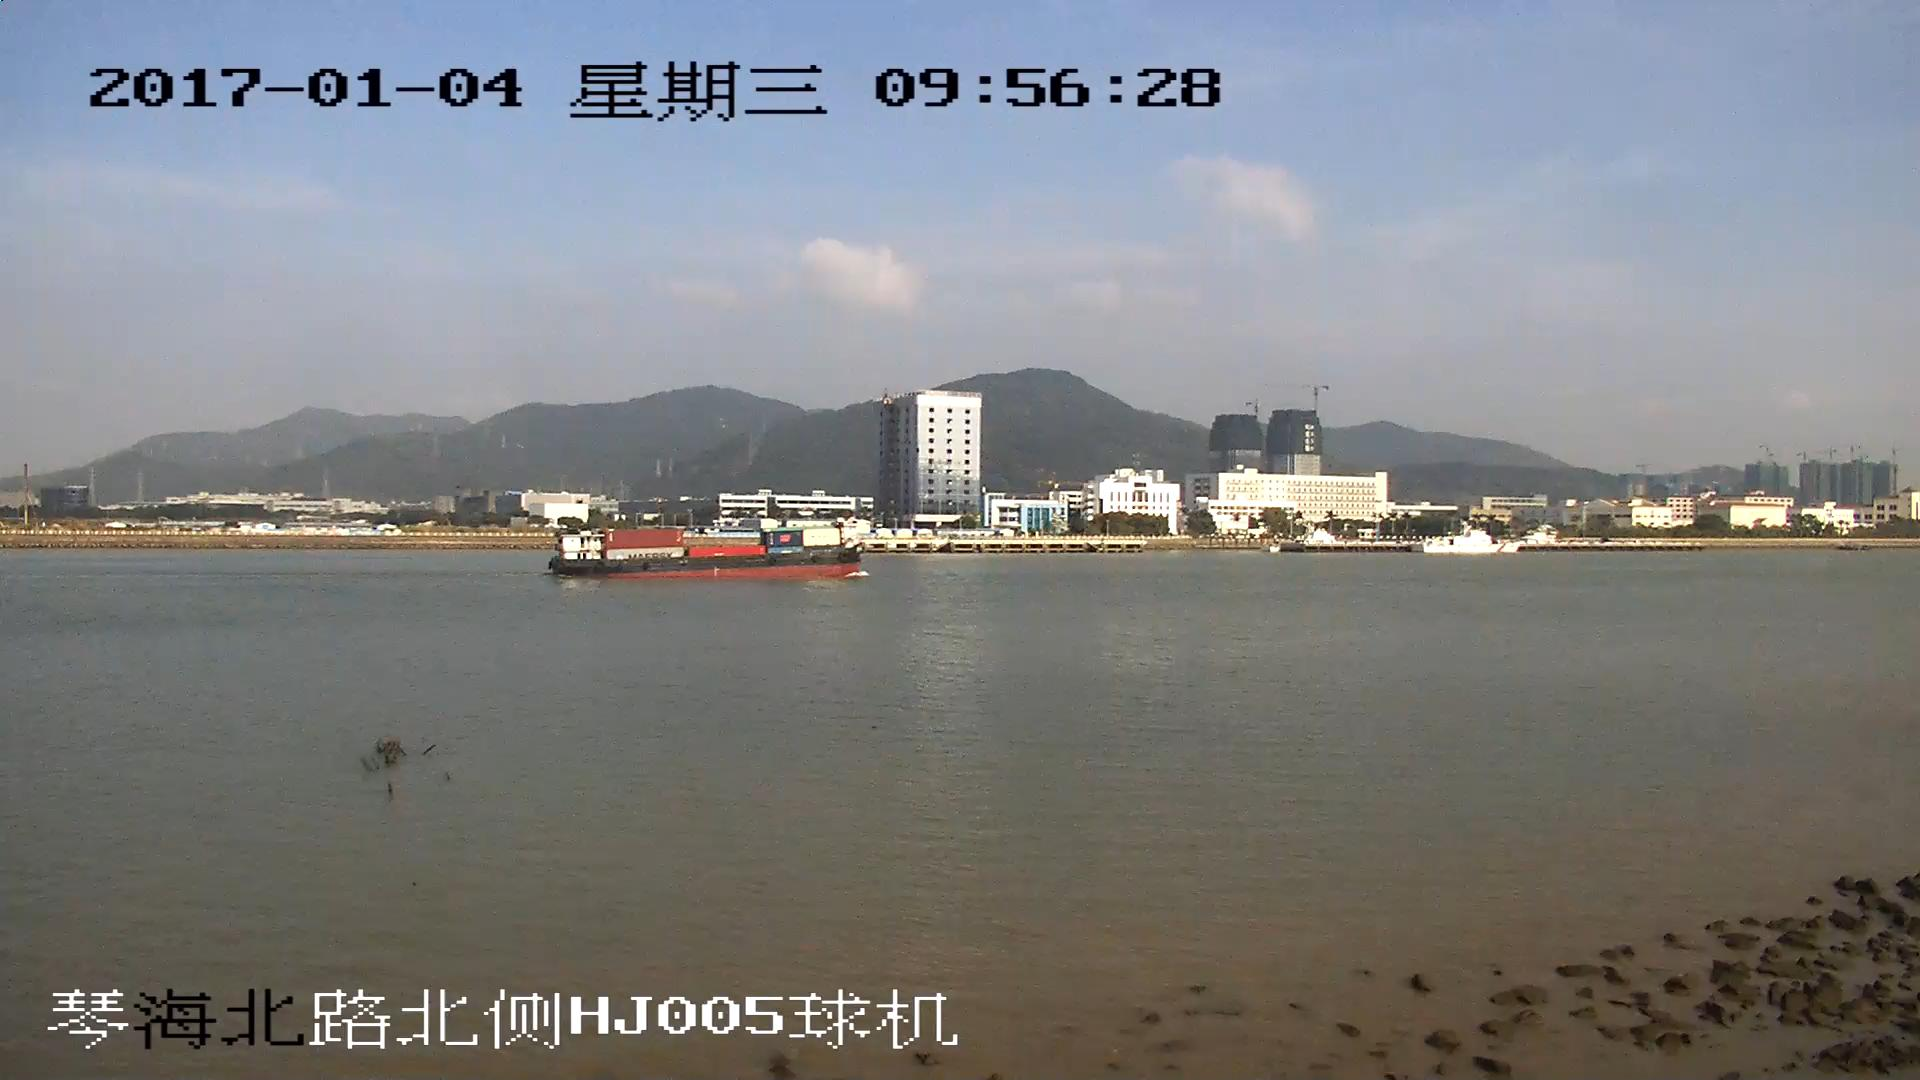container ship: (552, 524, 866, 579)
